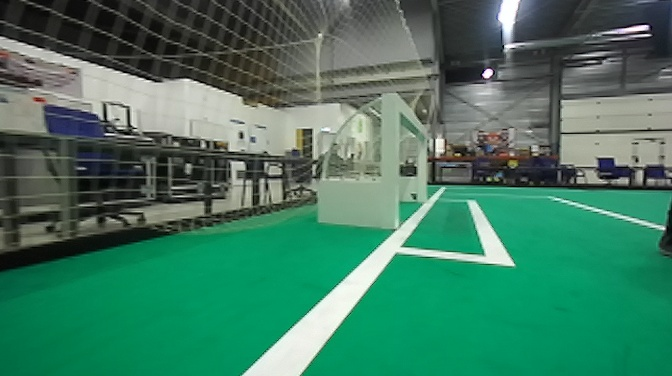goalpost: (383, 95, 399, 232), (414, 128, 430, 204)
